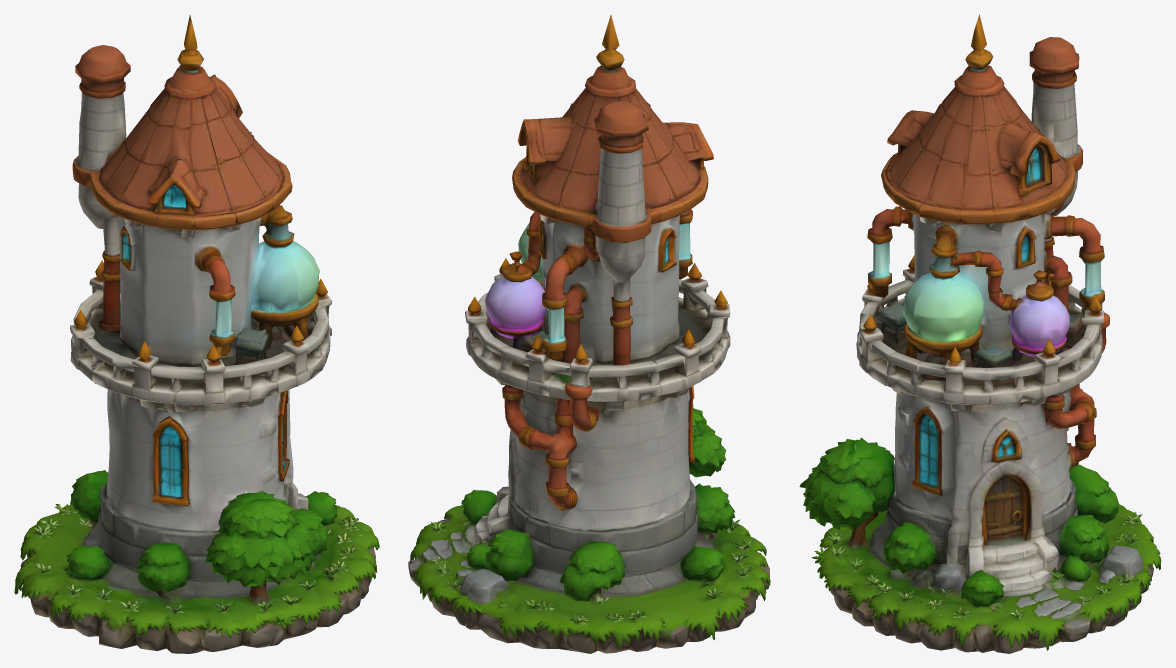
The model's file is chemistry.glb.
3 views of the same model, side by side, from view 1: azimuth 30°, elevation 25°; view 2: azimuth 150°, elevation 25°; view 3: azimuth 270°, elevation 25° (orthographic). The views are drawn at different scales.
Parts seen in each view (by area): view 1: tripo_node_5597c561-ba1d-4bd7-98db-1c21274aa193; view 2: tripo_node_5597c561-ba1d-4bd7-98db-1c21274aa193; view 3: tripo_node_5597c561-ba1d-4bd7-98db-1c21274aa193.
Boxes of the visible parts, x1,y1,x2,y2 form: tripo_node_5597c561-ba1d-4bd7-98db-1c21274aa193: (14, 15, 379, 653); tripo_node_5597c561-ba1d-4bd7-98db-1c21274aa193: (408, 14, 770, 653); tripo_node_5597c561-ba1d-4bd7-98db-1c21274aa193: (799, 14, 1161, 653).
Bounding box in the file's own units: 0.5863 × 0.9846 × 0.5755.
Materials: 1 (1 with a texture image).
